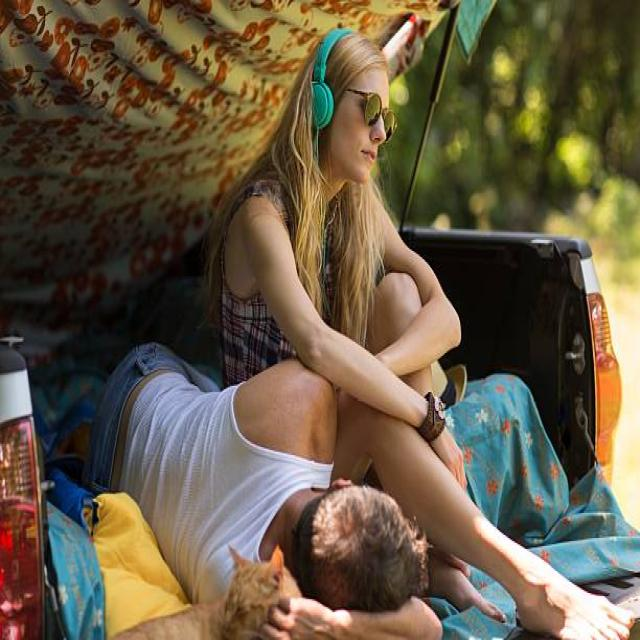Headphone: (305, 26, 355, 132)
